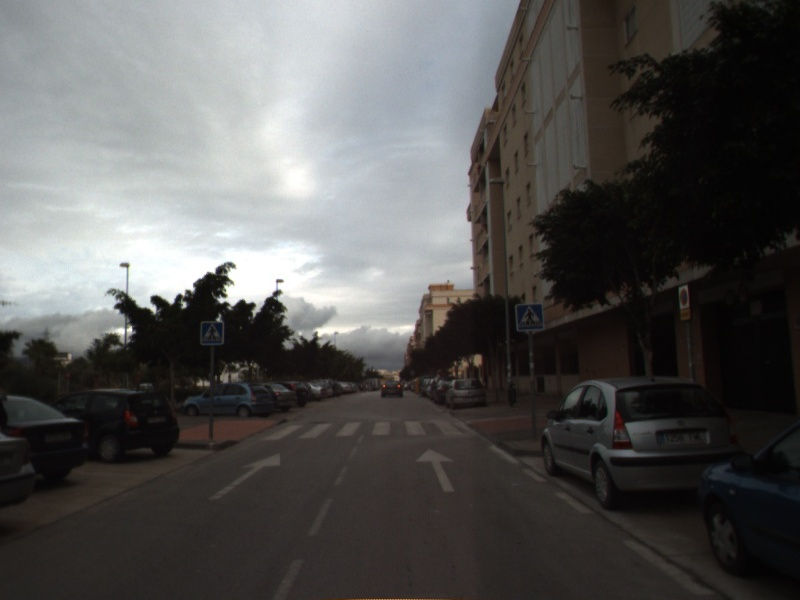STRAIGHT: (207, 452, 282, 502), (414, 446, 456, 494)
